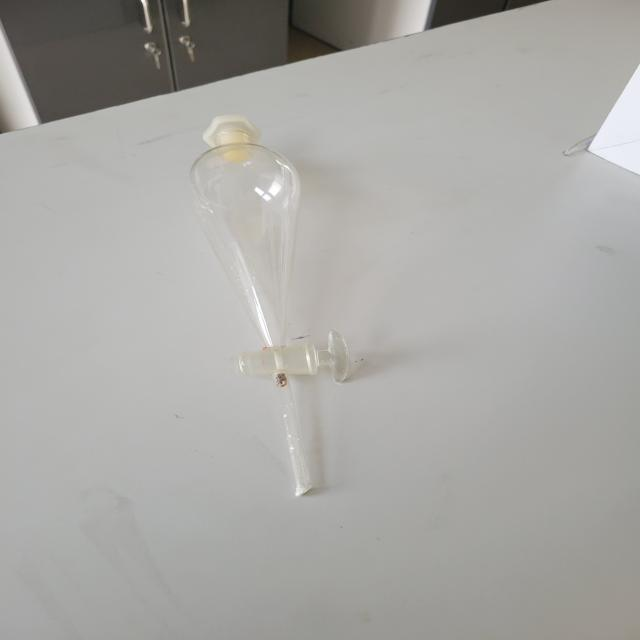Separating_Funnel: (140, 94, 438, 511)
